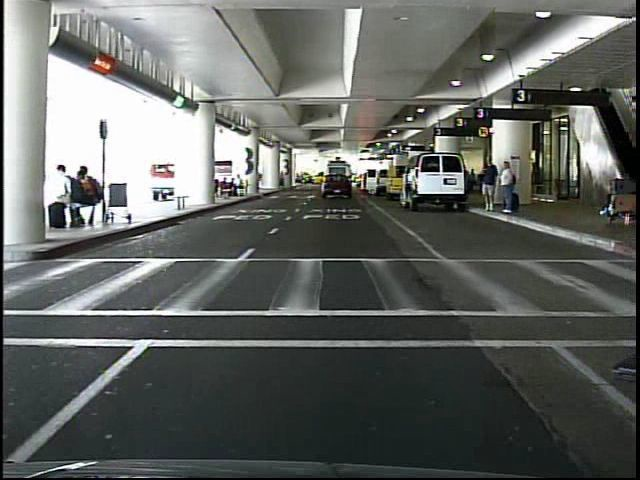person: (498, 157, 519, 220), (479, 152, 499, 217), (321, 170, 332, 194)
